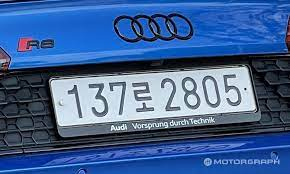car: (46, 64, 269, 141)
